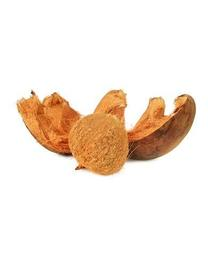coconut: (65, 112, 130, 176)
